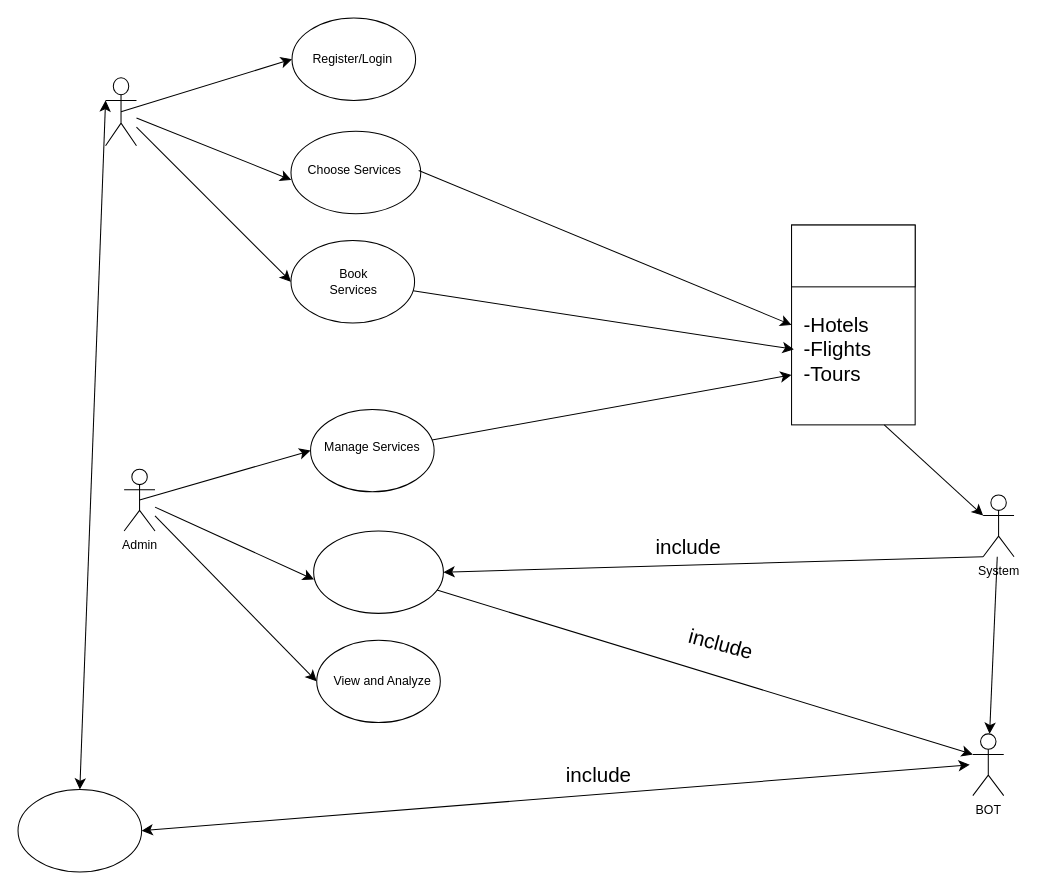
Some shapes in this 1037 by 890 pixel diagram are drawn without their labels. The shapes that lost their labels are listed below. From the top down, each one's centre as x and y in pixels, then its label:
(120,111): User
(853,255): Services
(378,571): Manage User
(79,830): ChatBOT
